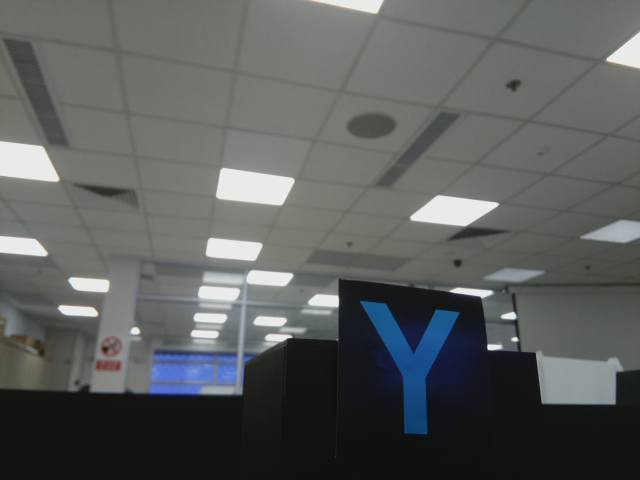y: (353, 295, 461, 439)
